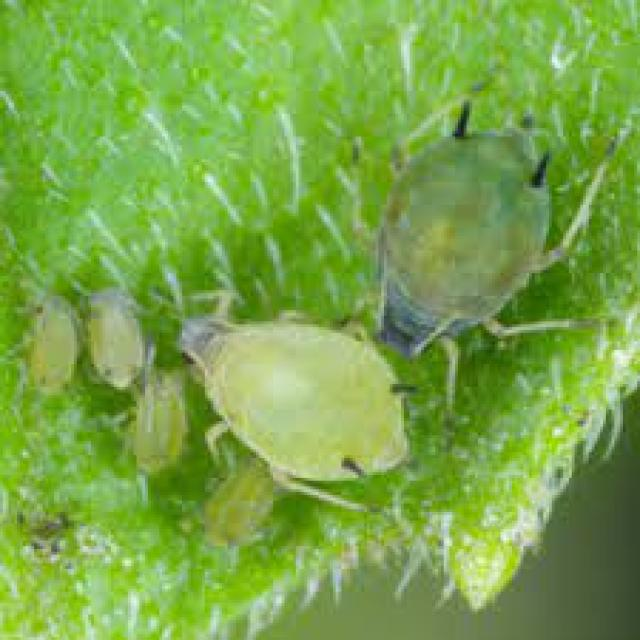Aphids: (164, 272, 434, 516), (355, 82, 569, 380)
